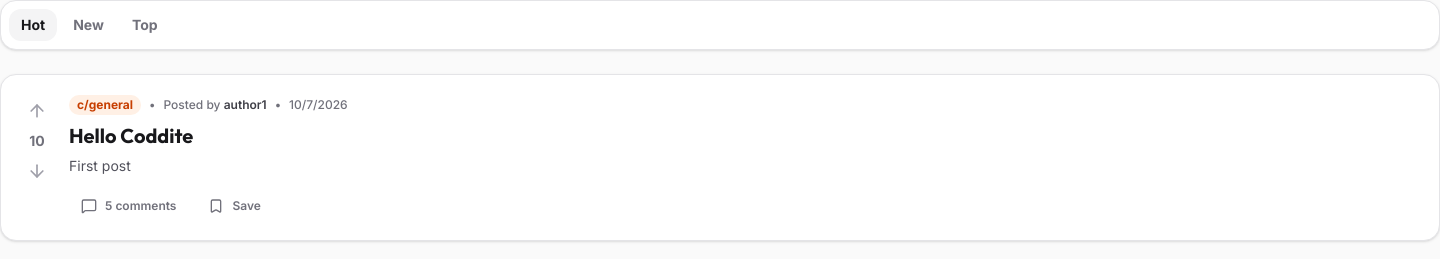
Test case: Feed Component › optimistically updates vote score on upvote
Expected: the text "10" is shown, top-left (29, 131), bottom-right (45, 151)
Click the 4th button.
click(37, 111)  # box top-left (21, 95), bottom-right (53, 127)
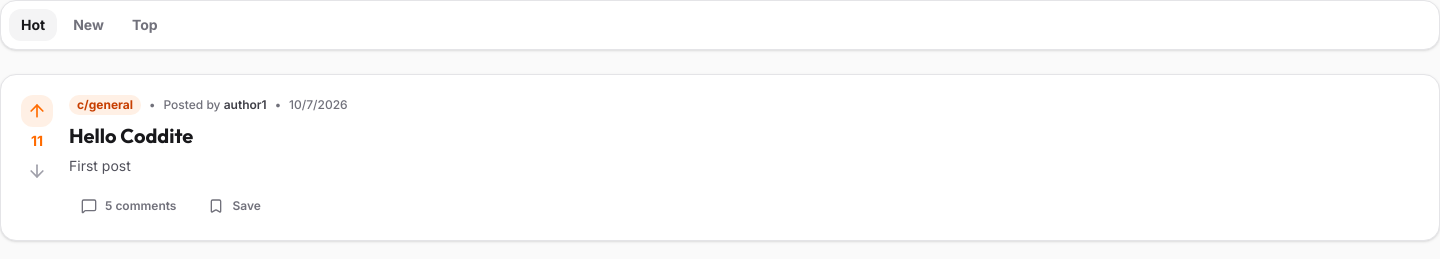
Expected: the text "11" is shown, top-left (31, 131), bottom-right (43, 151)
